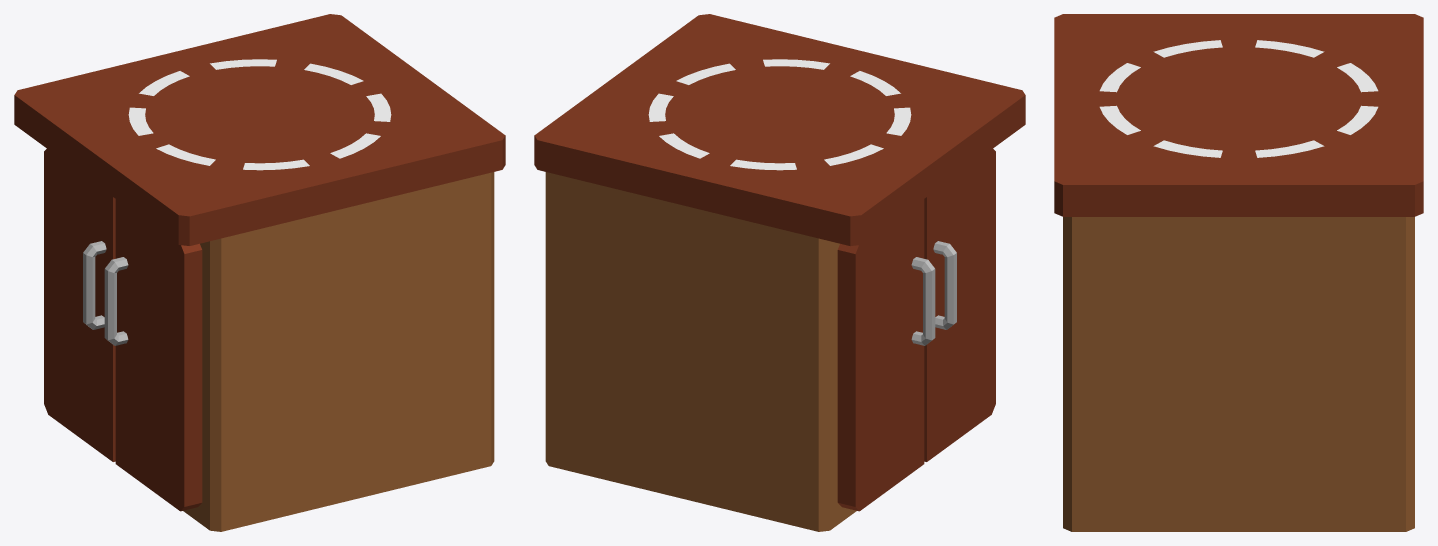
The model's file is Plates_Counter.fbx.
3 views of the same model, side by side, from view 1: azimuth 30°, elevation 25°; view 2: azimuth 150°, elevation 25°; view 3: azimuth 270°, elevation 25° (orthographic). The views are drawn at different scales.
Visible parts, largest first — view 1: Counter_Base, Counter_Top, Counter_Doors, Circle, Counter_Handles; view 2: Counter_Base, Counter_Top, Counter_Doors, Circle, Counter_Handles; view 3: Counter_Base, Counter_Top, Circle.
Part boxes in pixels (x1,y1,x2,y2): Counter_Base: [183, 172, 494, 531]; Counter_Top: [14, 14, 505, 245]; Counter_Doors: [44, 149, 202, 511]; Circle: [128, 59, 391, 170]; Counter_Handles: [83, 241, 128, 345]; Counter_Base: [545, 172, 856, 531]; Counter_Top: [534, 14, 1025, 245]; Counter_Doors: [837, 149, 995, 511]; Circle: [648, 59, 911, 170]; Counter_Handles: [911, 241, 956, 345]; Counter_Base: [1063, 217, 1414, 531]; Counter_Top: [1054, 14, 1423, 216]; Circle: [1099, 40, 1378, 157].
Size of the model in its own units: 1.15 by 1.1 by 1.05.
